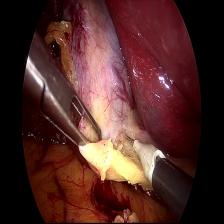Grasper: (23, 31, 104, 152)
Hook: (124, 130, 162, 182)
